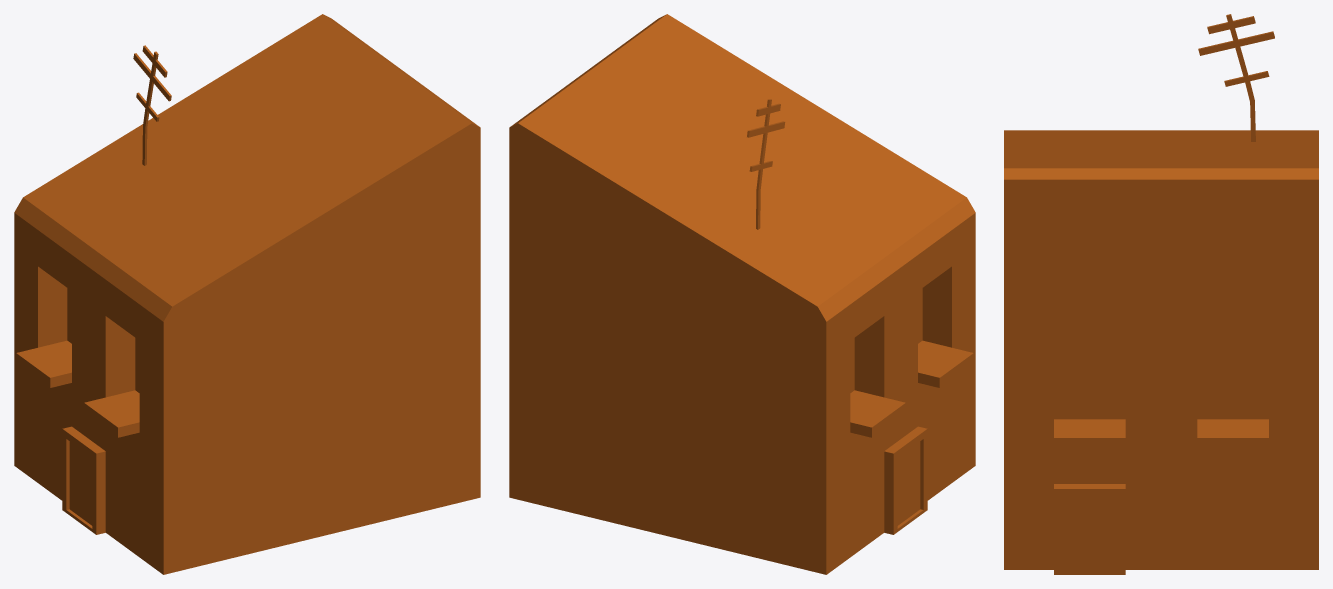
The model's file is shitty_suburb_Houe3.FBX.
3 renders of one model, left to right at view 1: azimuth 30°, elevation 25°; view 2: azimuth 150°, elevation 25°; view 3: azimuth 270°, elevation 25°, orthographic. The views are drawn at different scales.
Parts seen in each view (by area): view 1: Box004; view 2: Box004; view 3: Box004.
Boxes of the visible parts, bbox=[...] form: Box004: bbox=[14, 14, 480, 574]; Box004: bbox=[509, 14, 975, 574]; Box004: bbox=[1004, 14, 1318, 574].
Size of the model in its own units: 4.43 by 4.95 by 3.19.
